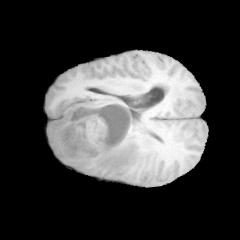glioma: (52, 99, 140, 176)
